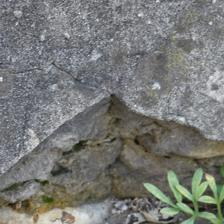Crack: (47, 0, 150, 93), (34, 61, 78, 160), (25, 96, 133, 124)
